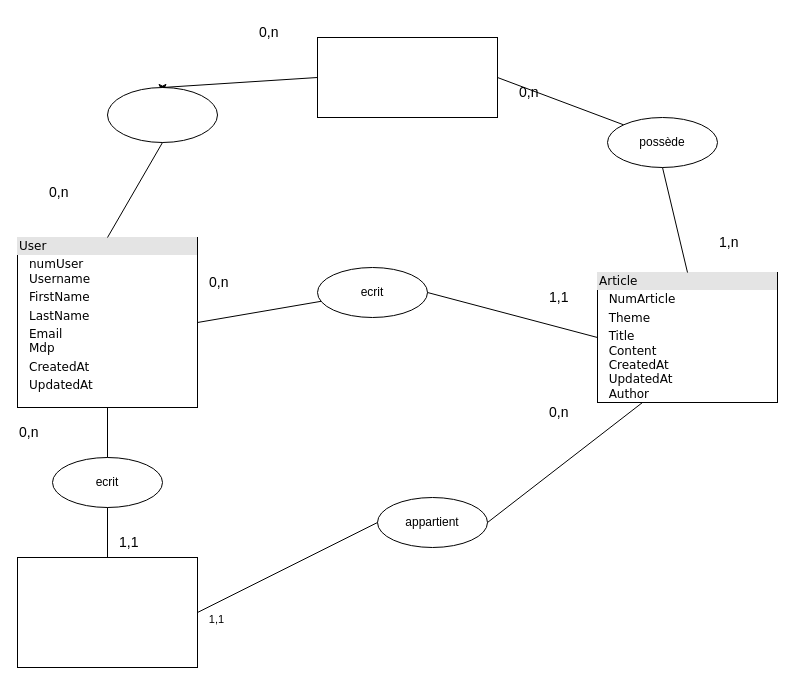
The diagram is 795 pixels wide and 685 high, and some of its shapes have lost their labels. Each missing label, with the centre of its shape:
"abonner" belongs at pixel 162 114.
"Comments CommentsNumber Author Article Message CreatedAt" belongs at pixel 107 612.
"theme NumTheme Title Description" belongs at pixel 407 77.
